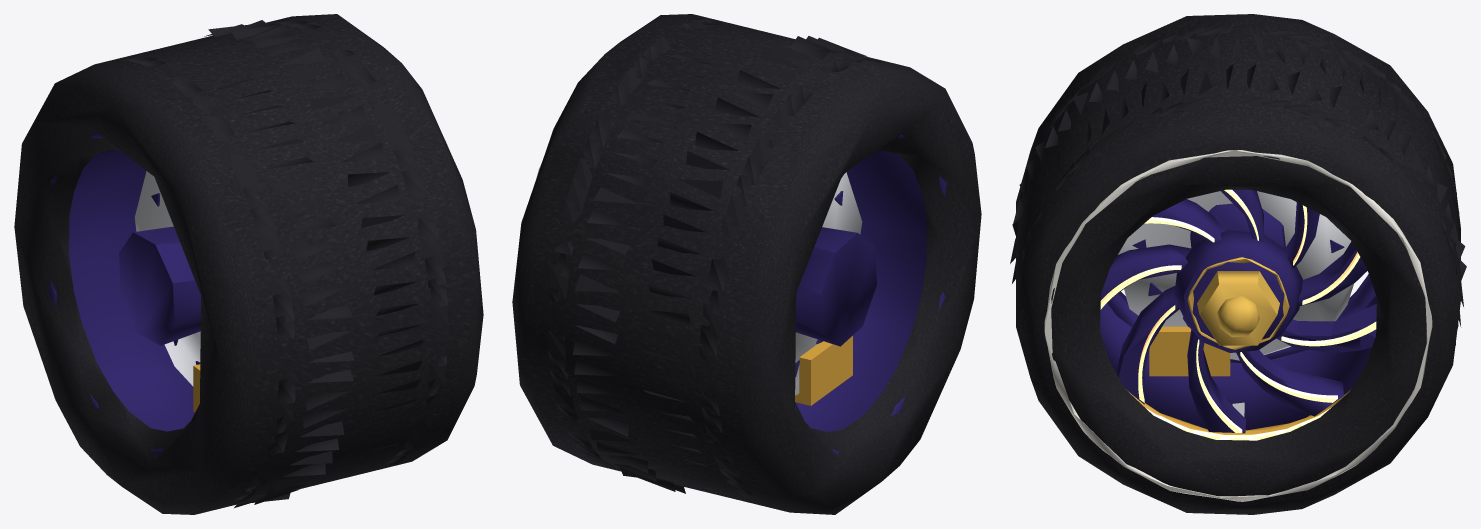
The model's file is tyre-turbine-lp.glb.
3 views of the same model, side by side, from view 1: azimuth 30°, elevation 25°; view 2: azimuth 150°, elevation 25°; view 3: azimuth 270°, elevation 25° (orthographic). The views are drawn at different scales.
Visible parts, largest first — view 1: Tyre_Rubber, Rim, Valve; view 2: Tyre_Rubber, Rim, Rim_Lip, Valve; view 3: Tyre_Rubber, Rim, Valve, Tyre_Stripe, Hub_Nut, Rim_Lip, LED_Ring, LED_Blade_1, LED_Blade_2, LED_Blade_7, LED_Blade_9.
Boxes of the visible parts, <box> form: Tyre_Rubber: <box>14,14,483,514</box>; Rim: <box>47,131,200,457</box>; Valve: <box>134,171,200,386</box>; Tyre_Rubber: <box>512,14,981,514</box>; Rim: <box>795,134,948,454</box>; Rim_Lip: <box>795,335,852,405</box>; Valve: <box>795,172,862,395</box>; Tyre_Rubber: <box>1010,14,1466,514</box>; Rim: <box>1100,190,1376,433</box>; Valve: <box>1118,191,1353,416</box>; Tyre_Stripe: <box>1044,150,1432,501</box>; Hub_Nut: <box>1187,257,1289,349</box>; Rim_Lip: <box>1125,326,1351,434</box>; LED_Ring: <box>1145,407,1331,440</box>; LED_Blade_1: <box>1240,352,1337,402</box>; LED_Blade_2: <box>1281,321,1376,346</box>; LED_Blade_7: <box>1100,265,1181,309</box>; LED_Blade_9: <box>1196,339,1242,432</box>.
Size of the model in its own units: 0.1806 by 0.2824 by 0.2824.
16 materials, 1 textured.
